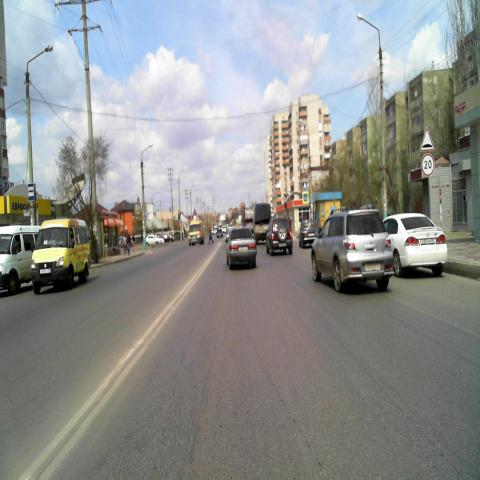1_17: (419, 126, 435, 152)
